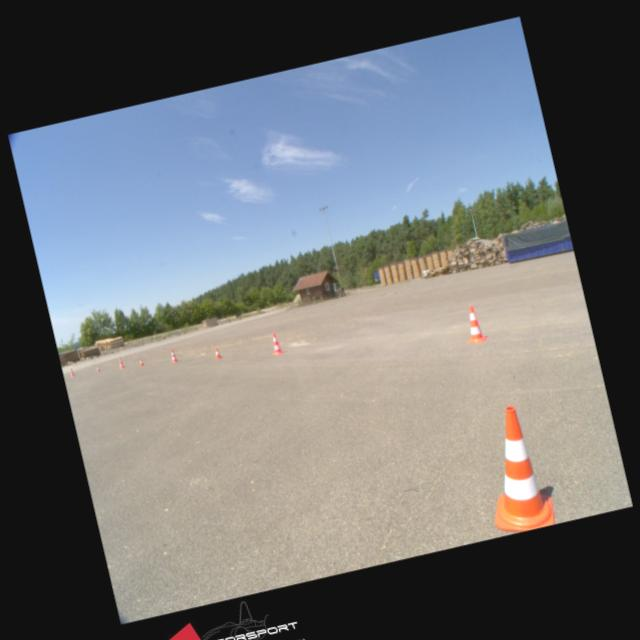large_orange_cone: (470, 401, 557, 536), (459, 302, 486, 343), (268, 332, 284, 354), (168, 348, 177, 362), (116, 356, 125, 369)
orange_cone: (212, 348, 222, 358), (137, 358, 144, 366), (95, 365, 100, 372)
